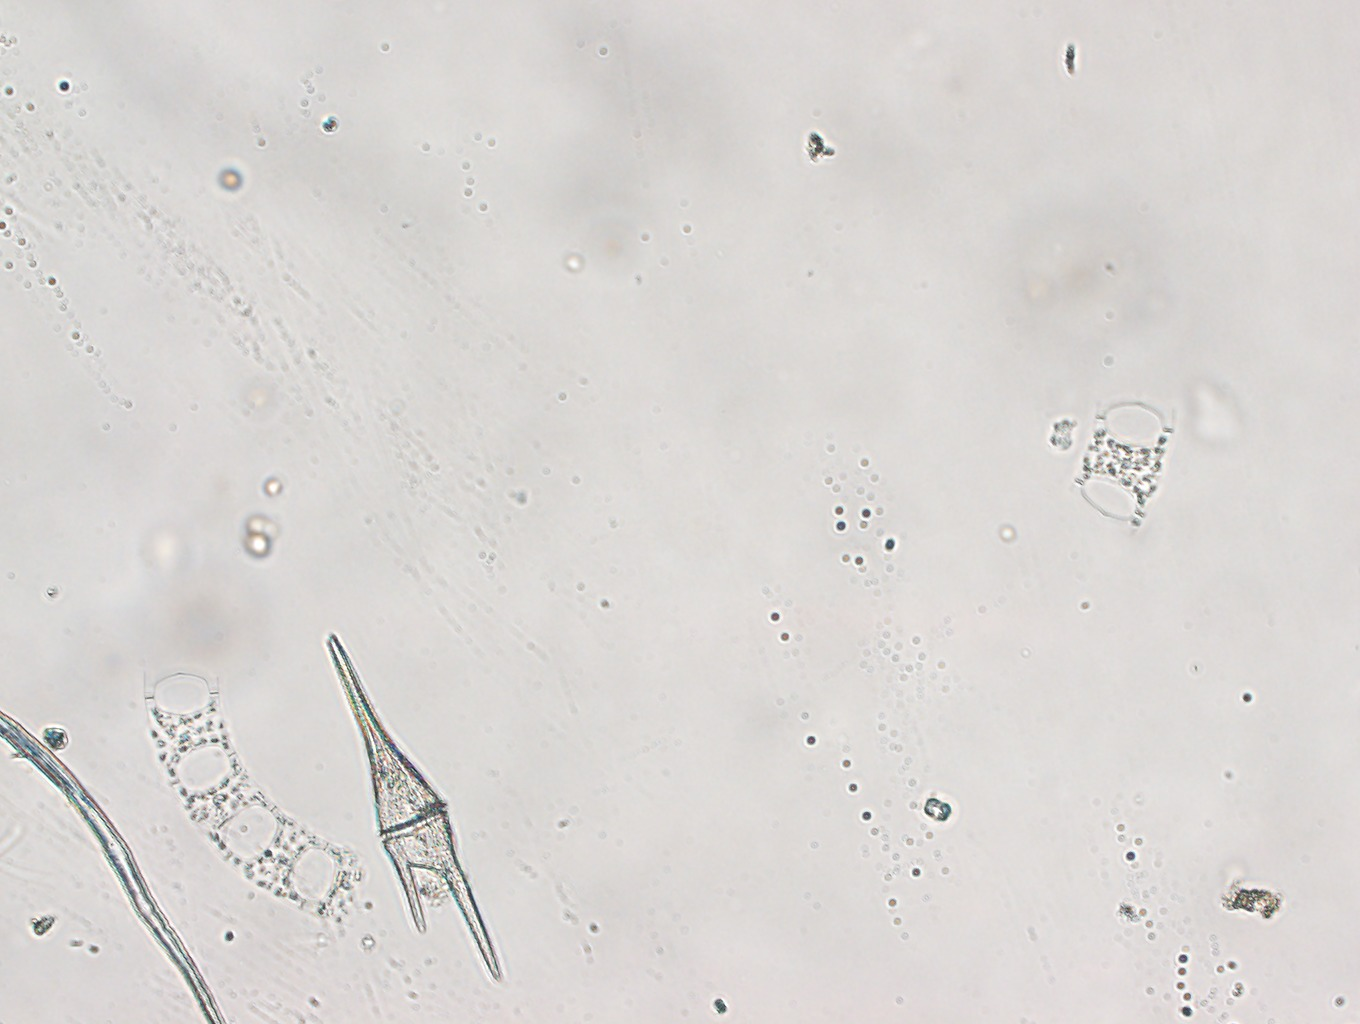ceratium furca: (320, 627, 505, 989)
eucampia: (139, 651, 367, 929), (1060, 382, 1183, 543)
